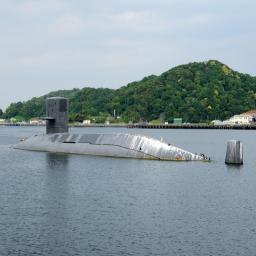submarine: (13, 97, 245, 165)
